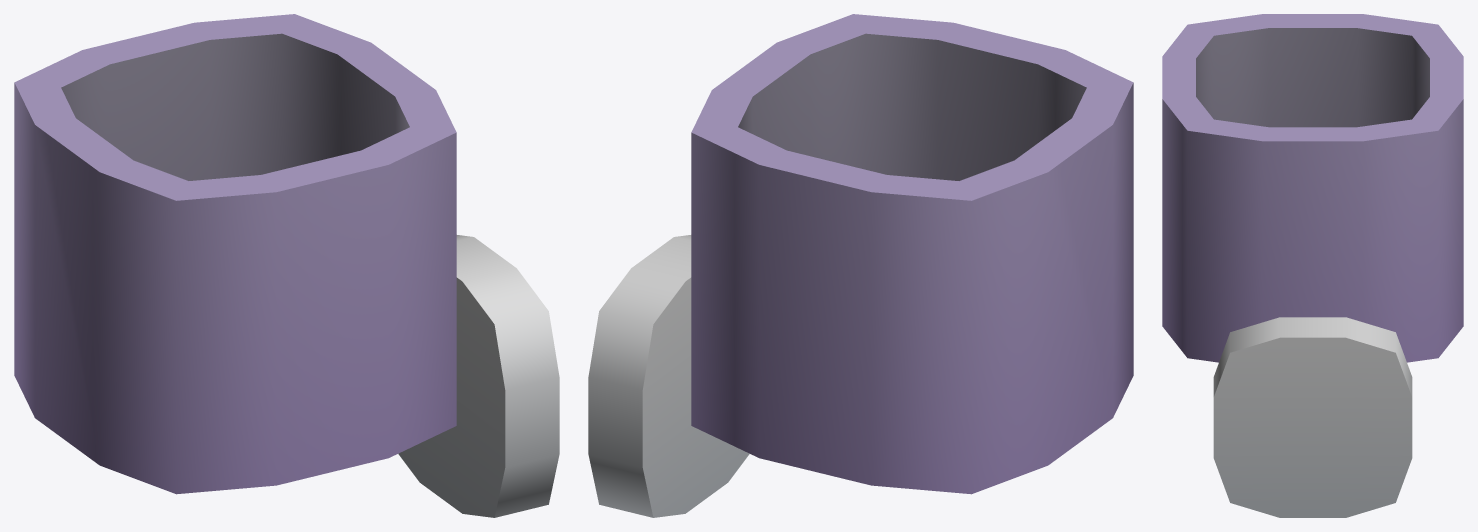
File: lamp-straight-wall (%wall).glb
The picture shows the model from 3 angles, left to right: view 1: azimuth 30°, elevation 25°; view 2: azimuth 150°, elevation 25°; view 3: azimuth 270°, elevation 25°; orthographic projection. The views are drawn at different scales.
Parts seen in each view (by area): view 1: lamp-straight-wall (%wall); view 2: lamp-straight-wall (%wall); view 3: lamp-straight-wall (%wall).
Boxes of the visible parts, x1,y1,x2,y2 form: lamp-straight-wall (%wall): [14, 14, 559, 517]; lamp-straight-wall (%wall): [588, 14, 1133, 517]; lamp-straight-wall (%wall): [1162, 14, 1463, 517].
Bounding box in the file's own units: 0.2863 × 0.2818 × 0.225.
